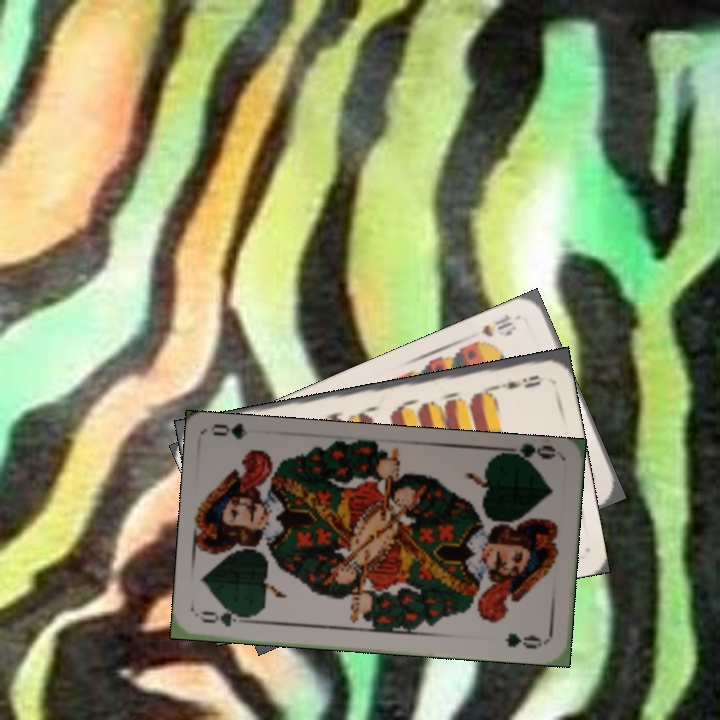E9: (488, 371, 546, 393)
GO: (499, 441, 559, 470), (198, 607, 256, 630)
S10: (468, 310, 519, 350)
